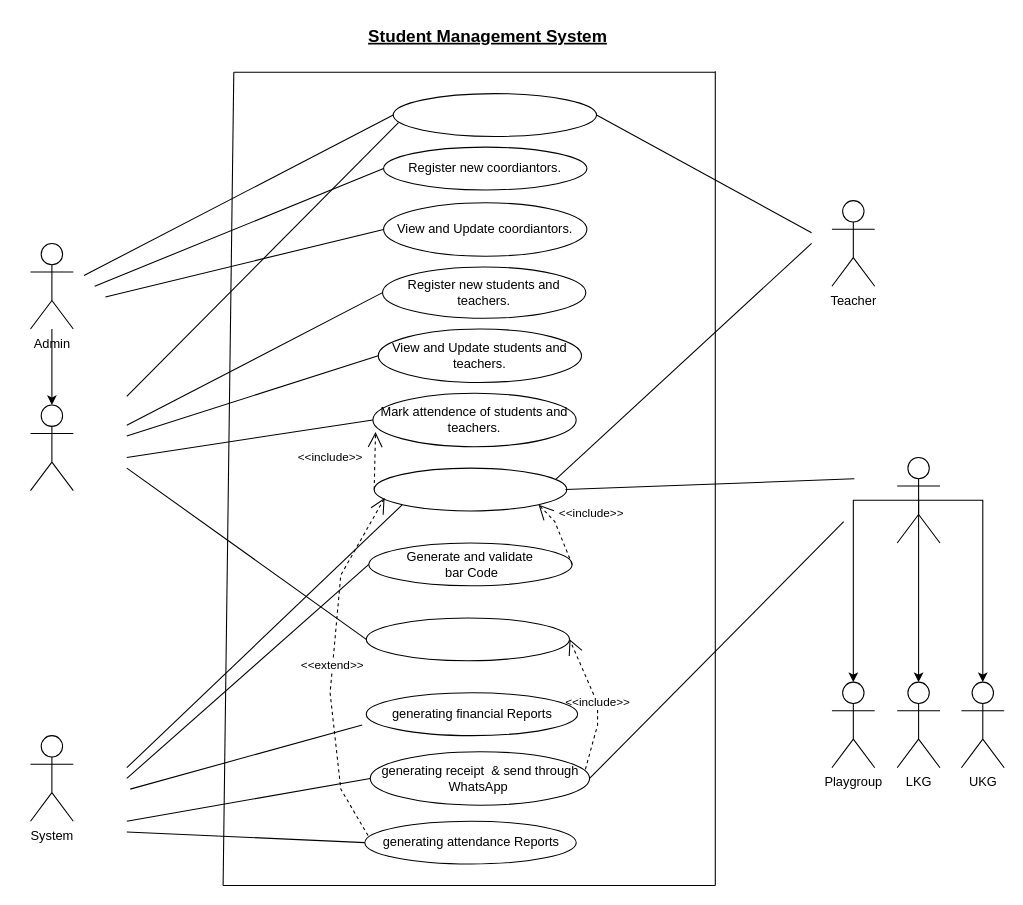
Image size: 1023x905. Some labels were removed from this diagram. Each missing label, with the centre of its shape:
"Coordinator" goes at pixel 51 447.
"Log into the system." goes at pixel 494 114.
"record monthly income and expenses" goes at pixel 467 639.
"scanning bar Code" goes at pixel 470 489.
"Student" goes at pixel 918 499.
